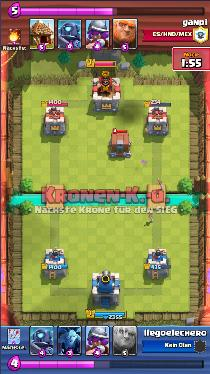ally_goblin_cage: (108, 131, 133, 159)
